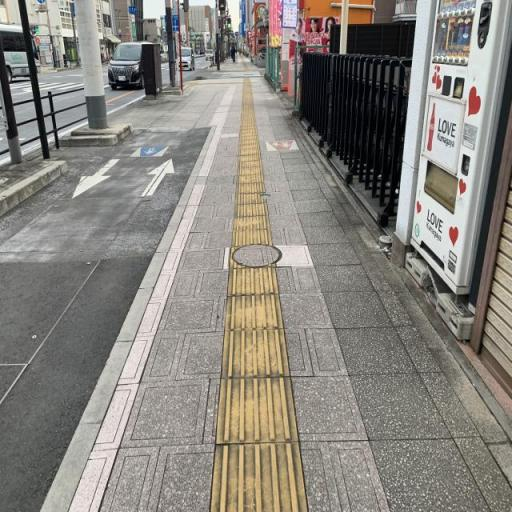line: (211, 444, 309, 511), (216, 376, 297, 444), (220, 329, 290, 378), (226, 293, 285, 331), (228, 268, 278, 296)
